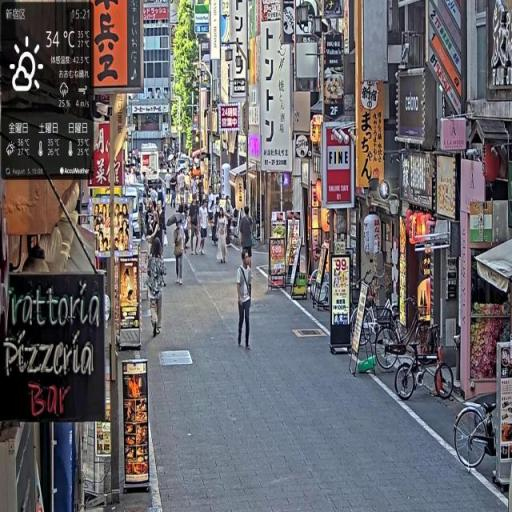person: (148, 235, 169, 340), (237, 249, 254, 351), (172, 216, 188, 287), (240, 205, 255, 272), (216, 208, 230, 268)
